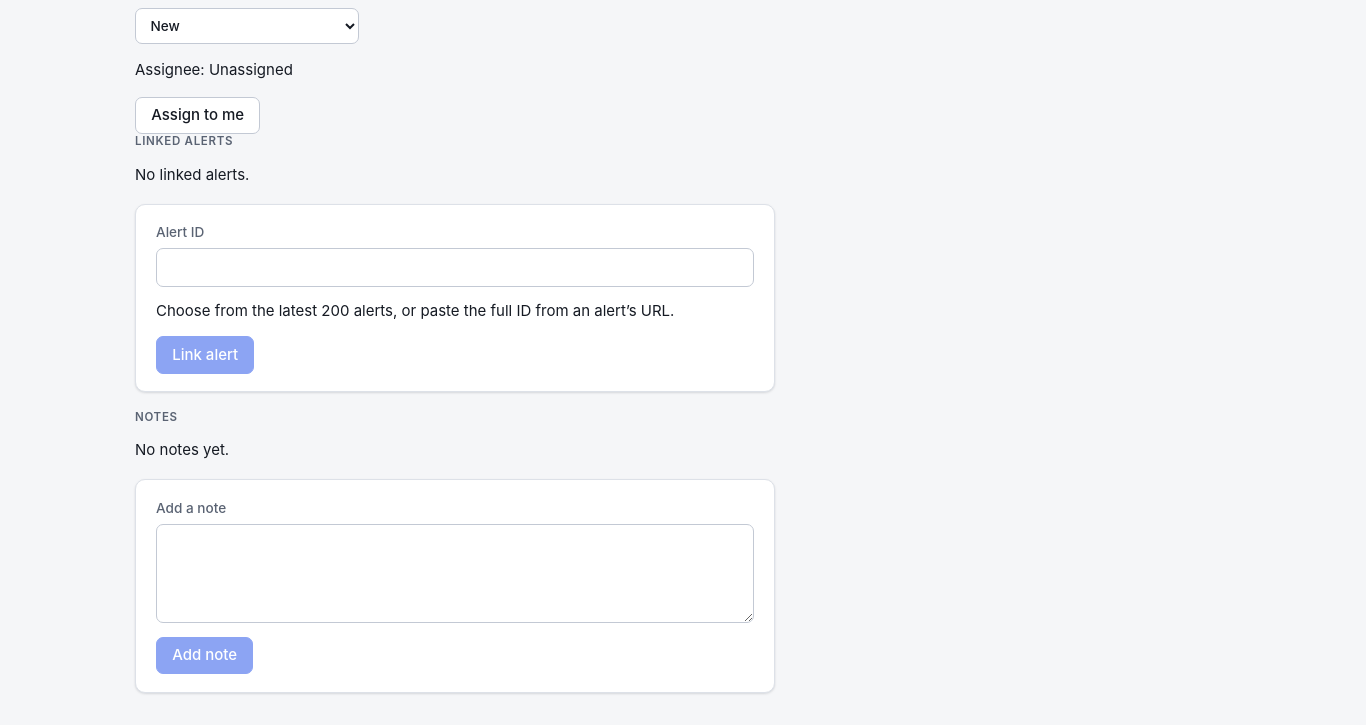
Scenario: IncidentDetail › adds a note, renders it as text and clears the input only after saving
(page scrolled)
Type "<script>hello</script>" into the text box labelled "Add a note". click: point(455, 574)
box: [156,524,754,623]
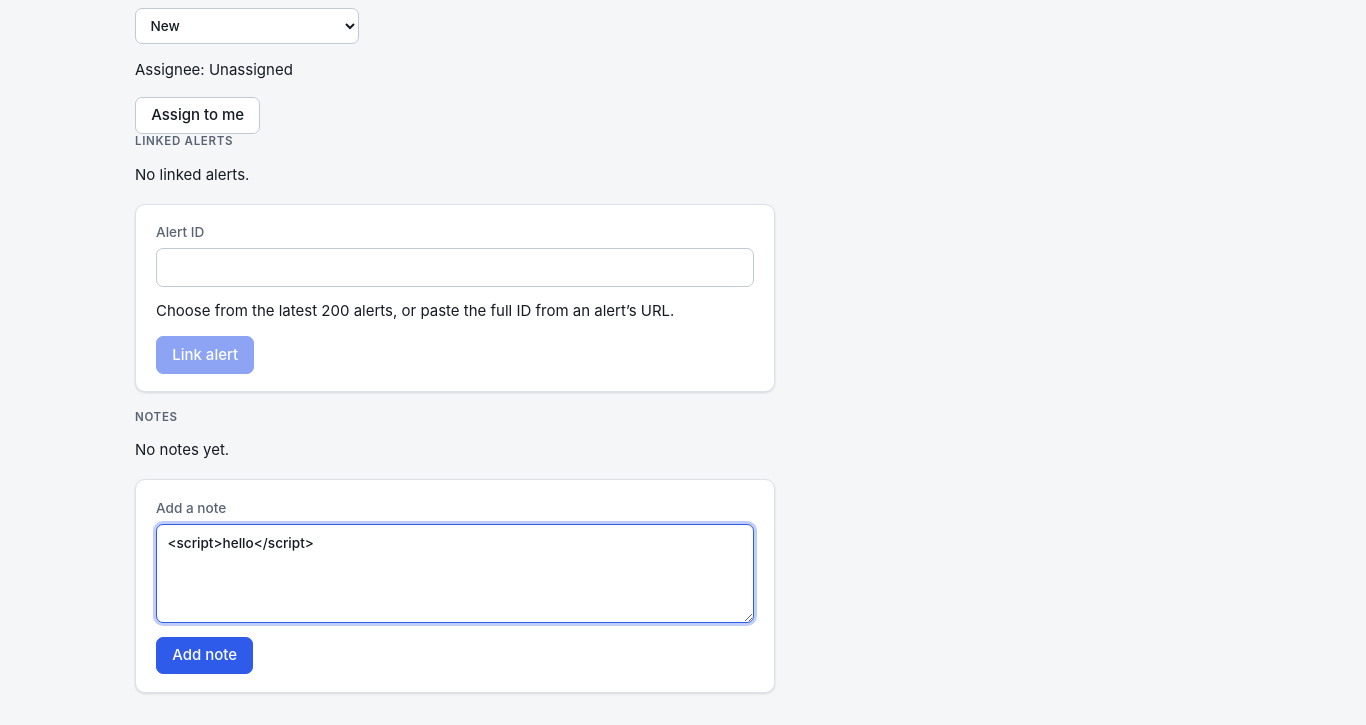
Click the button "Add note". click: point(205, 656)
box: [156,637,253,674]
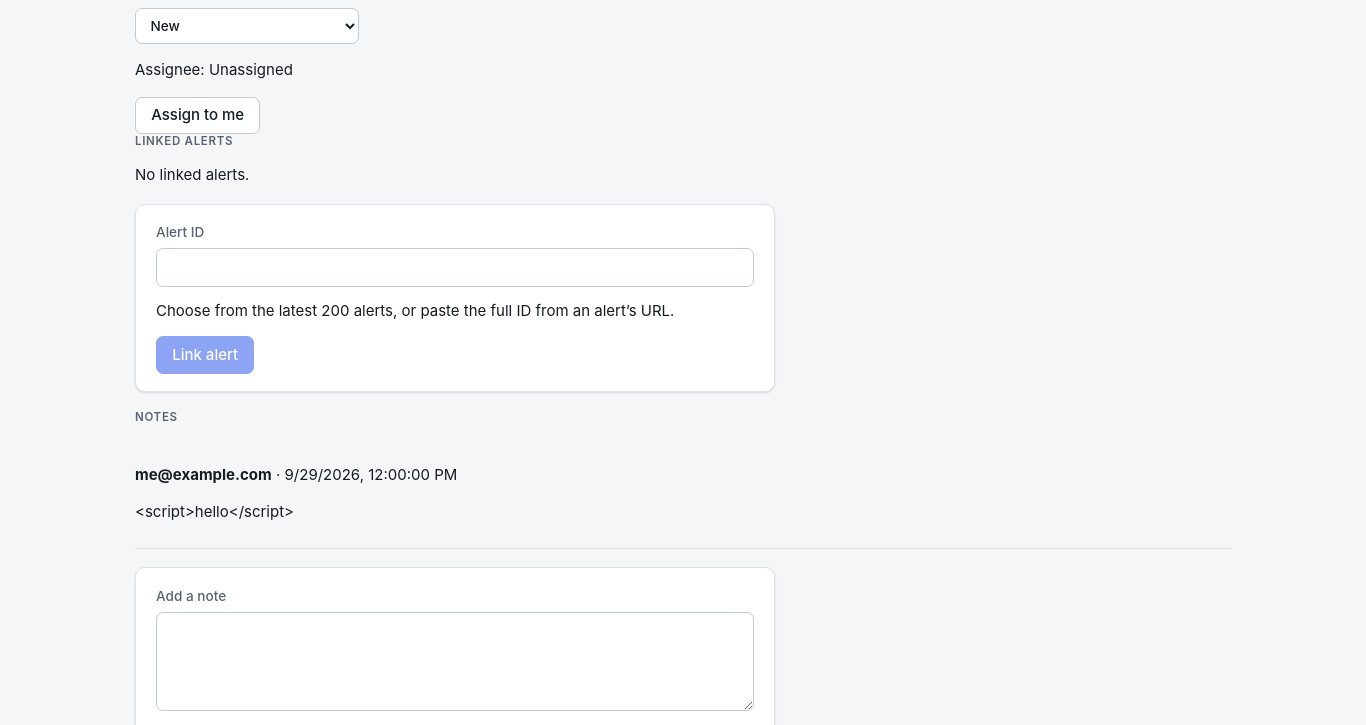
Now the text "<script>hello</script>" is shown, box [135,502,294,521]
Now the text box labelled "Add a note" is empty, box [156,612,754,711]
